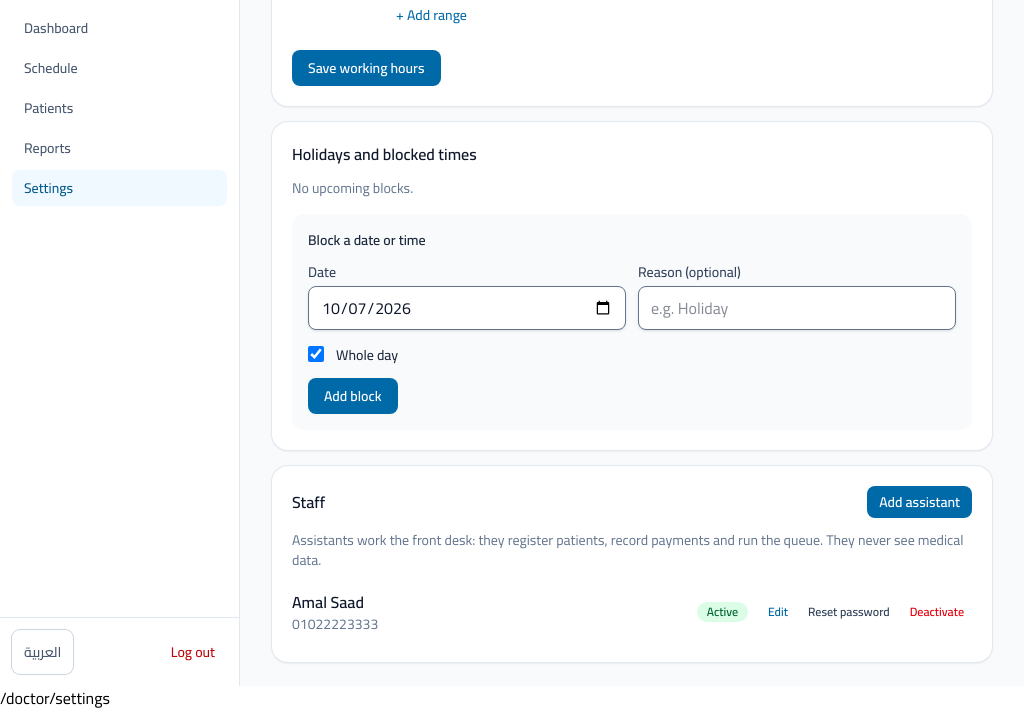
Test: Settings: staff › edits name and phone
The width and height of the screenshot is (1024, 713).
(page scrolled)
Click the button with aria-label "Edit Amal Saad" at (778, 612), box [760,600,796,624]
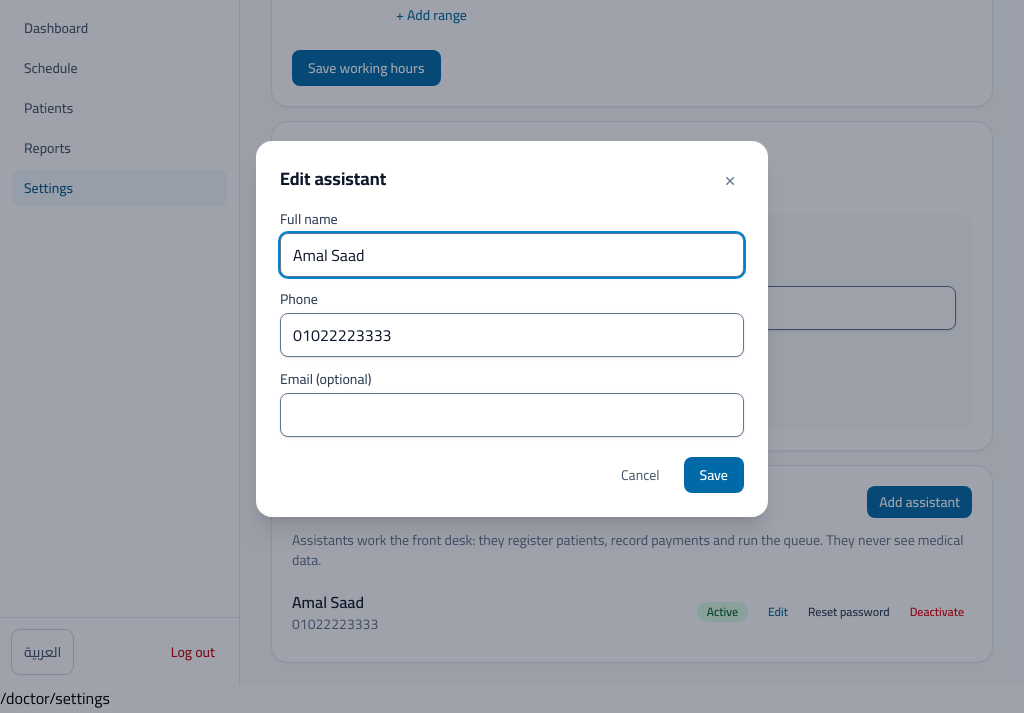
Replace the text in the field labelled "Full name" with "Amal S. Saad" at (512, 255), box [280,233,744,277]
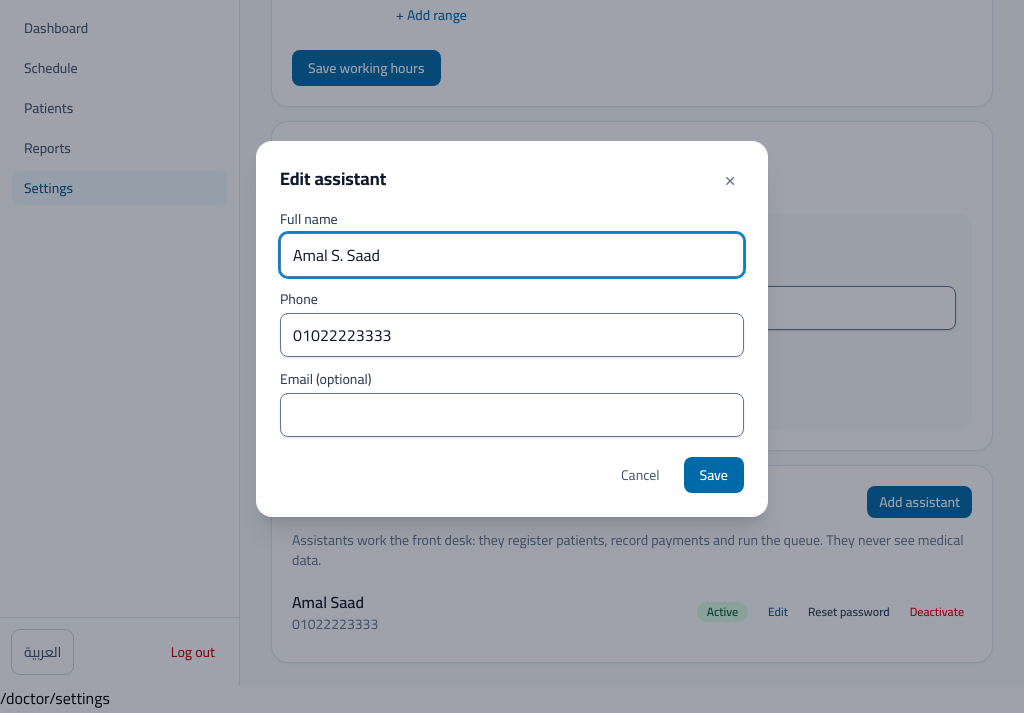
Click the button "Save" at (714, 475), box [684,457,744,493]
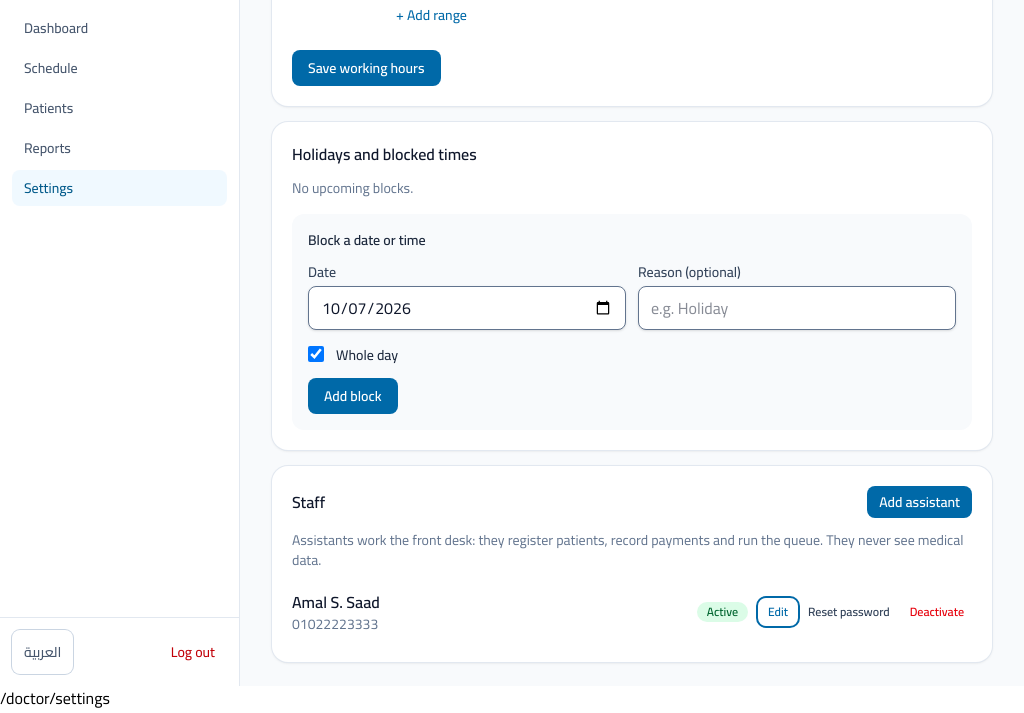
Check: the text "Amal S. Saad" is shown, box [292,587,380,617]
